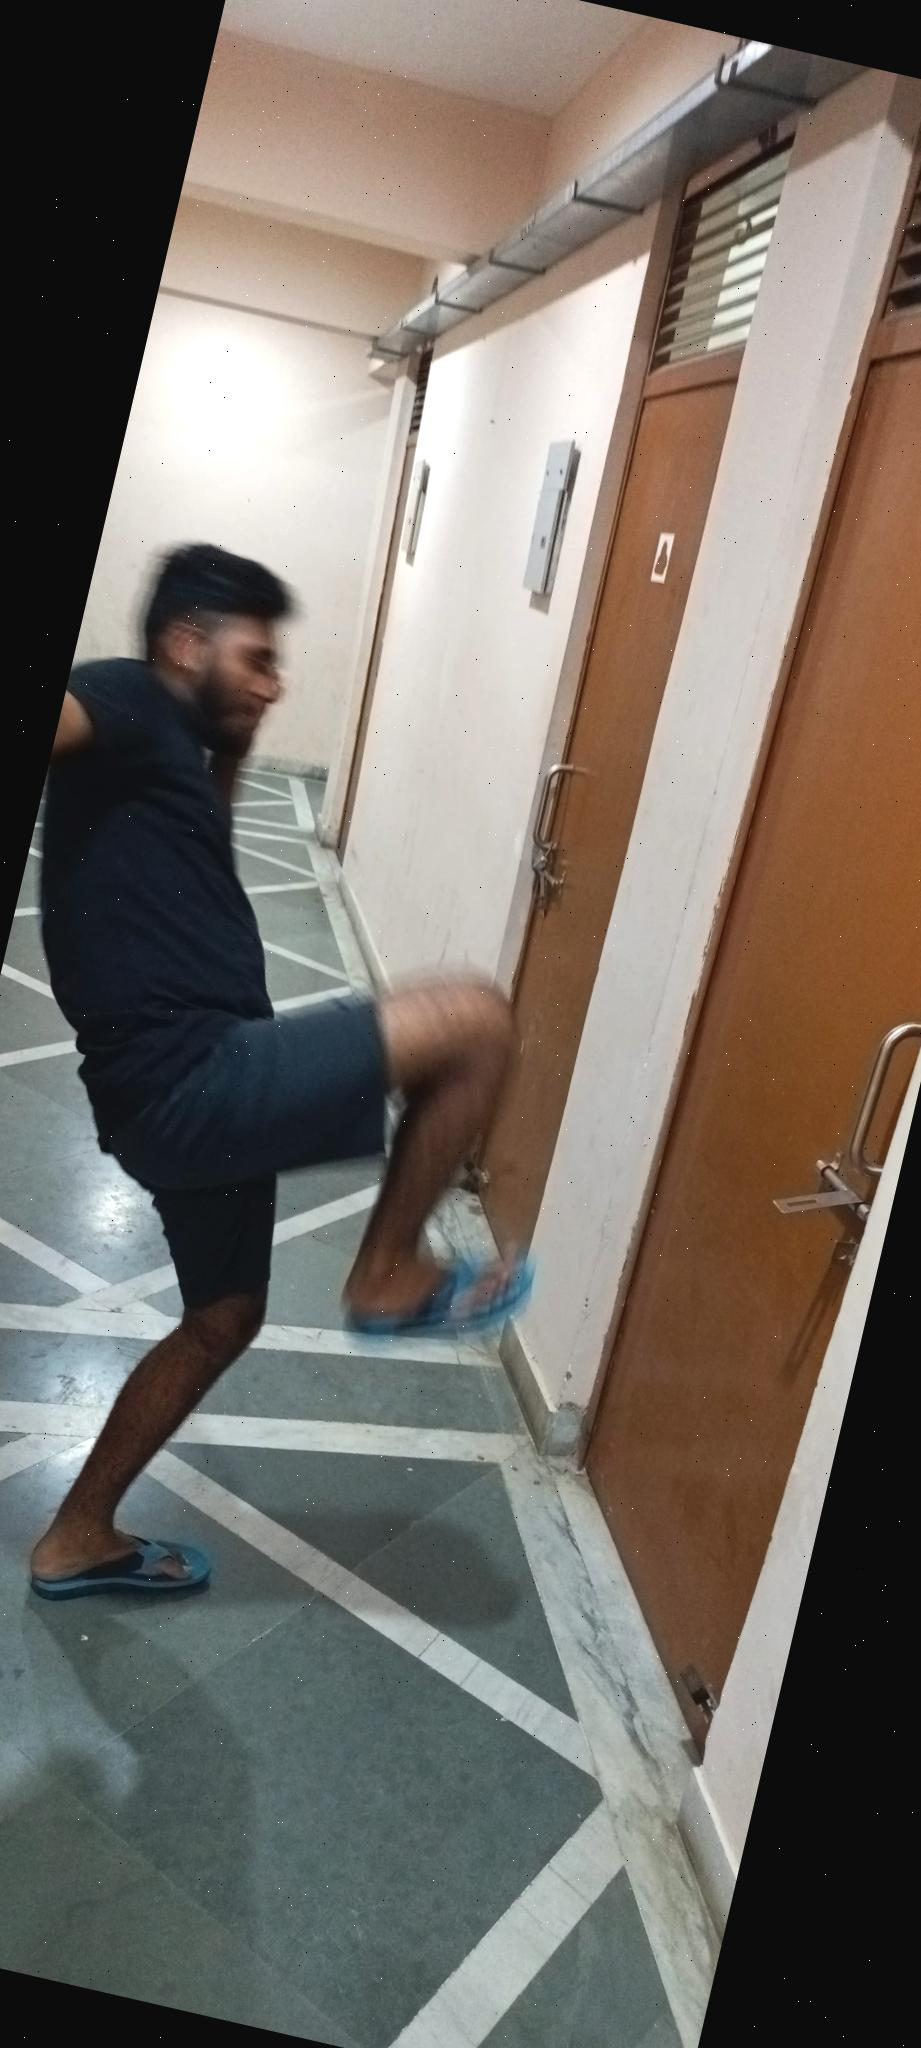suspicion: (0, 406, 921, 1966)
